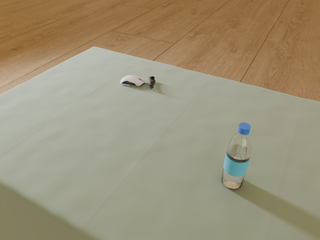bottle: (222, 123, 252, 189)
mouse: (120, 75, 145, 86)
